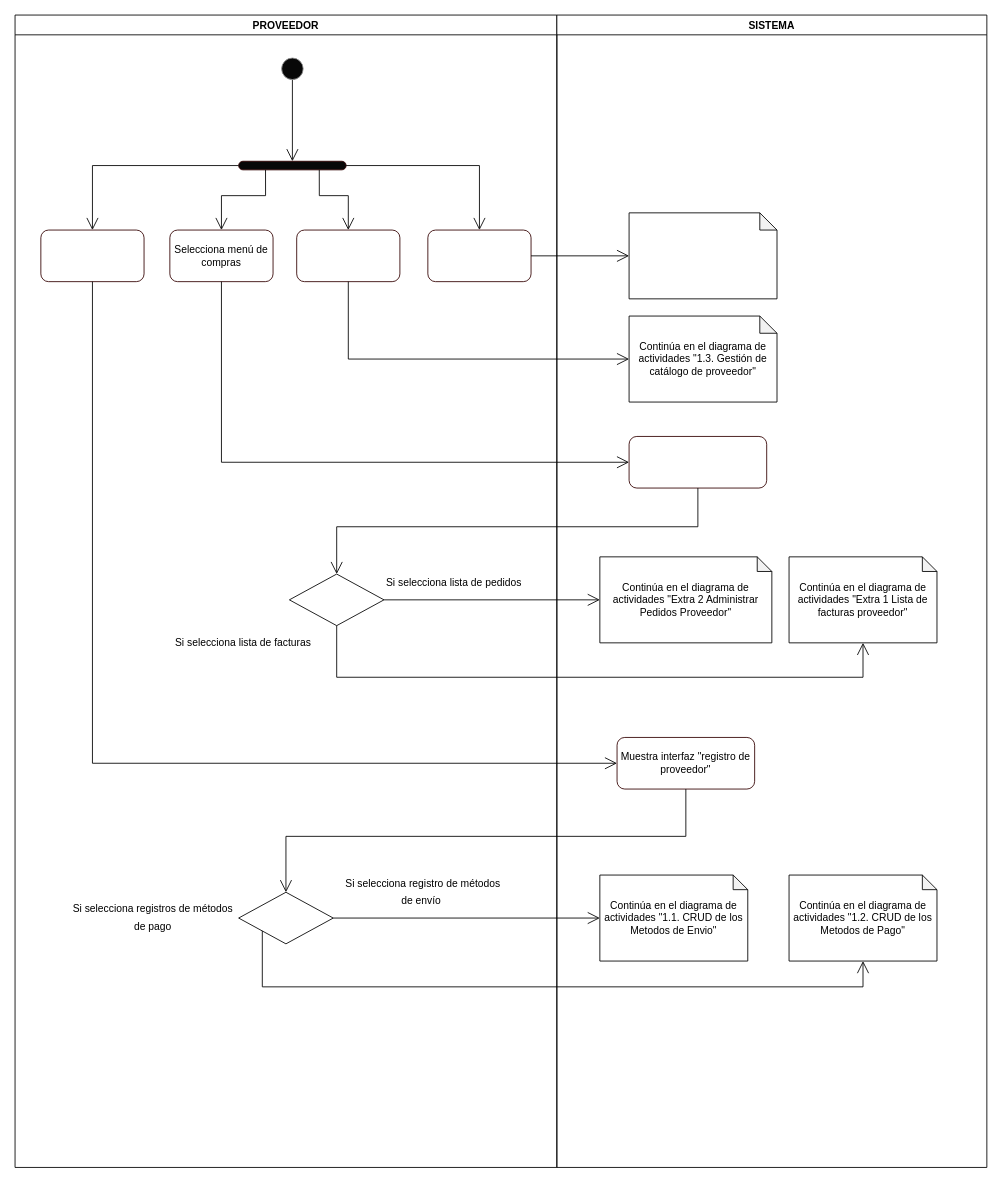
The diagram is 1002 pixels wide and 1183 high, and some of its shapes have lost their labels. Here are the shapes that lost their labels. From the top down, the centre of each, then its label:
(92,255): Selecciona registro de proveedor
(348,255): Selecciona catálogo de ingredientes
(479,255): Selecciona lista de contratos
(702,255): Continúa en el diagrama de actividades "Extra 3 Lista de contratos Proveedor"
(697,462): Muestra interfaz "menú de compras"
